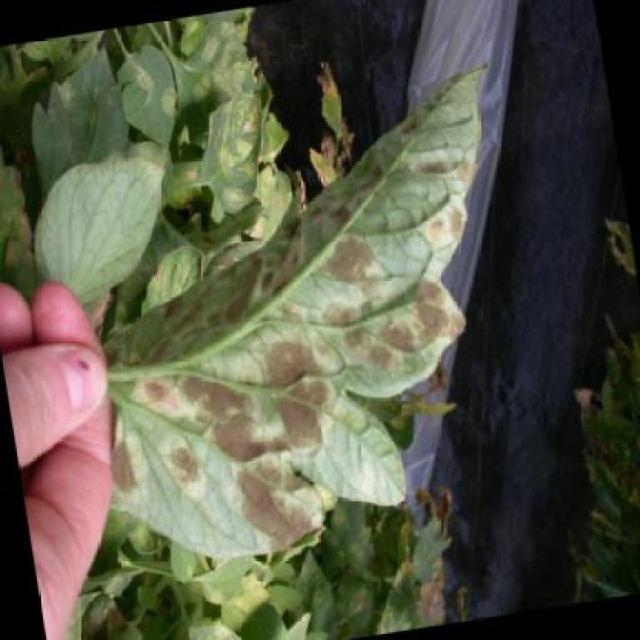Leaf Mold: (78, 192, 564, 565)
